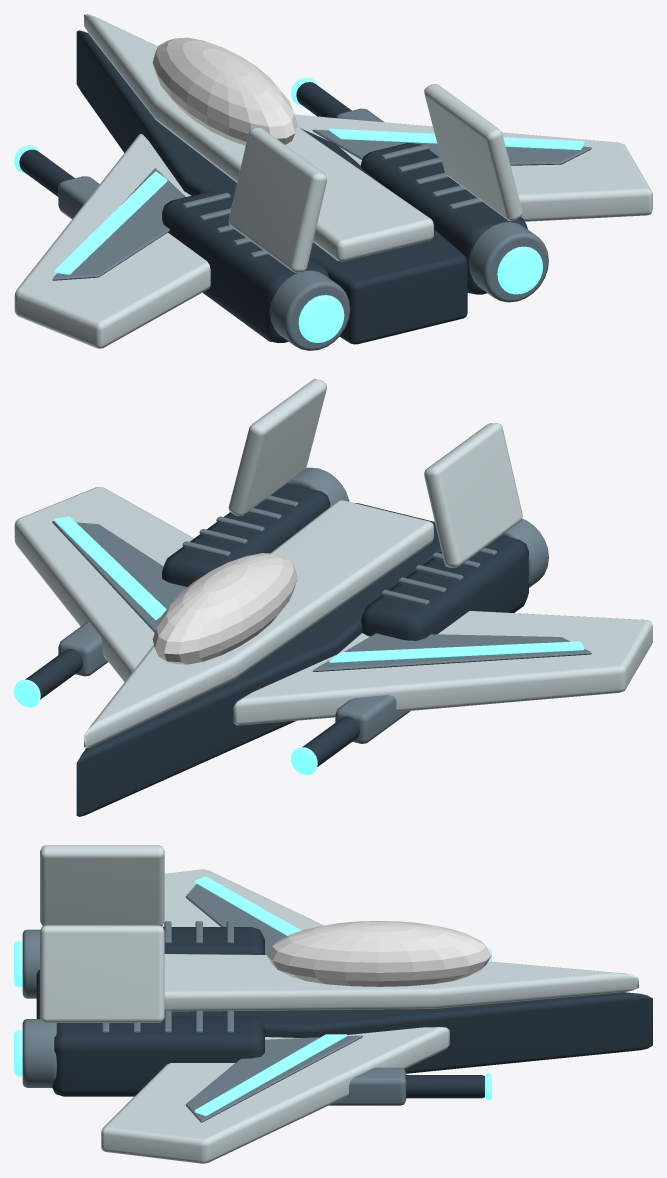
File: Kestrel.fbx
The picture shows the model from 3 angles, top to bottom: view 1: azimuth 30°, elevation 25°; view 2: azimuth 150°, elevation 25°; view 3: azimuth 270°, elevation 25°; orthographic projection. The views are drawn at different scales.
Visible parts, largest first — view 1: Kestrel keel, Swept falcon wing, Pointed upper armor, Swept falcon wing.001, Kestrel canopy, Canted tail, Vented nacelle, Canted tail.001, Vented nacelle.001, Blue wing inset, Engine shroud, Engine shroud.001 (+8 smaller); view 2: Swept falcon wing, Pointed upper armor, Kestrel keel, Swept falcon wing.001, Kestrel canopy, Canted tail, Vented nacelle, Canted tail.001, Vented nacelle.001, Blue wing inset, Blue wing inset.001, Cyan identification stripe (+7 smaller); view 3: Swept falcon wing.001, Kestrel keel, Pointed upper armor, Canted tail.001, Kestrel canopy, Vented nacelle.001, Canted tail, Blue wing inset.001, Swept falcon wing, Vented nacelle, Engine shroud.001, Cannon receiver.001 (+5 smaller).
Boxes of the visible parts, left/top/right/bottom form: Kestrel keel: left=76, top=30, right=467, bottom=344; Swept falcon wing: left=14, top=133, right=210, bottom=348; Pointed upper armor: left=84, top=14, right=433, bottom=261; Swept falcon wing.001: left=295, top=114, right=652, bottom=221; Kestrel canopy: left=152, top=37, right=297, bottom=145; Canted tail: left=228, top=128, right=326, bottom=272; Vented nacelle: left=162, top=191, right=328, bottom=343; Canted tail.001: left=424, top=84, right=522, bottom=220; Vented nacelle.001: left=361, top=143, right=527, bottom=294; Blue wing inset: left=52, top=168, right=185, bottom=280; Engine shroud: left=270, top=270, right=350, bottom=350; Engine shroud.001: left=469, top=222, right=548, bottom=302; Swept falcon wing: left=233, top=611, right=652, bottom=725; Pointed upper armor: left=84, top=500, right=433, bottom=747; Kestrel keel: left=76, top=503, right=441, bottom=816; Swept falcon wing.001: left=14, top=486, right=193, bottom=681; Kestrel canopy: left=152, top=553, right=297, bottom=664; Canted tail: left=424, top=423, right=522, bottom=567; Vented nacelle: left=361, top=535, right=528, bottom=640; Canted tail.001: left=228, top=379, right=326, bottom=515; Vented nacelle.001: left=162, top=483, right=330, bottom=586; Blue wing inset: left=312, top=633, right=591, bottom=671; Blue wing inset.001: left=52, top=521, right=187, bottom=632; Cyan identification stripe: left=329, top=641, right=584, bottom=662; Swept falcon wing.001: left=101, top=1027, right=449, bottom=1163; Kestrel keel: left=36, top=970, right=652, bottom=1073; Pointed upper armor: left=164, top=954, right=638, bottom=1011; Canted tail.001: left=40, top=925, right=164, bottom=1022; Kestrel canopy: left=267, top=921, right=491, bottom=986; Vented nacelle.001: left=52, top=1016, right=264, bottom=1096; Canted tail: left=40, top=845, right=164, bottom=926; Blue wing inset.001: left=186, top=1035, right=362, bottom=1122; Swept falcon wing: left=162, top=869, right=323, bottom=930; Vented nacelle: left=163, top=927, right=264, bottom=954; Engine shroud.001: left=22, top=1019, right=57, bottom=1087; Cannon receiver.001: left=329, top=1067, right=406, bottom=1105.
Bounding box in the file's own units: 374 × 105 × 369.
